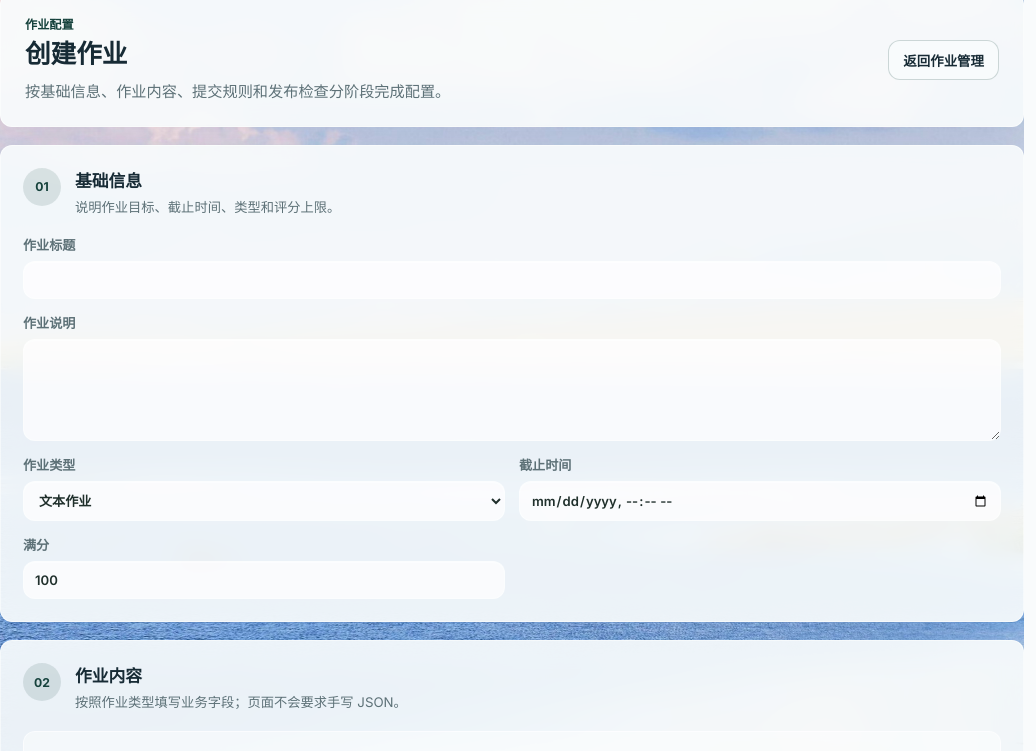
Test case: HomeworkEditorView › presents staged editing for all four homework types without raw JSON fields
Step 1. Select "附件作业" in the dropdown named "type" → (264,501), box x1=23 y1=481 x2=505 y2=521
(page scrolled)
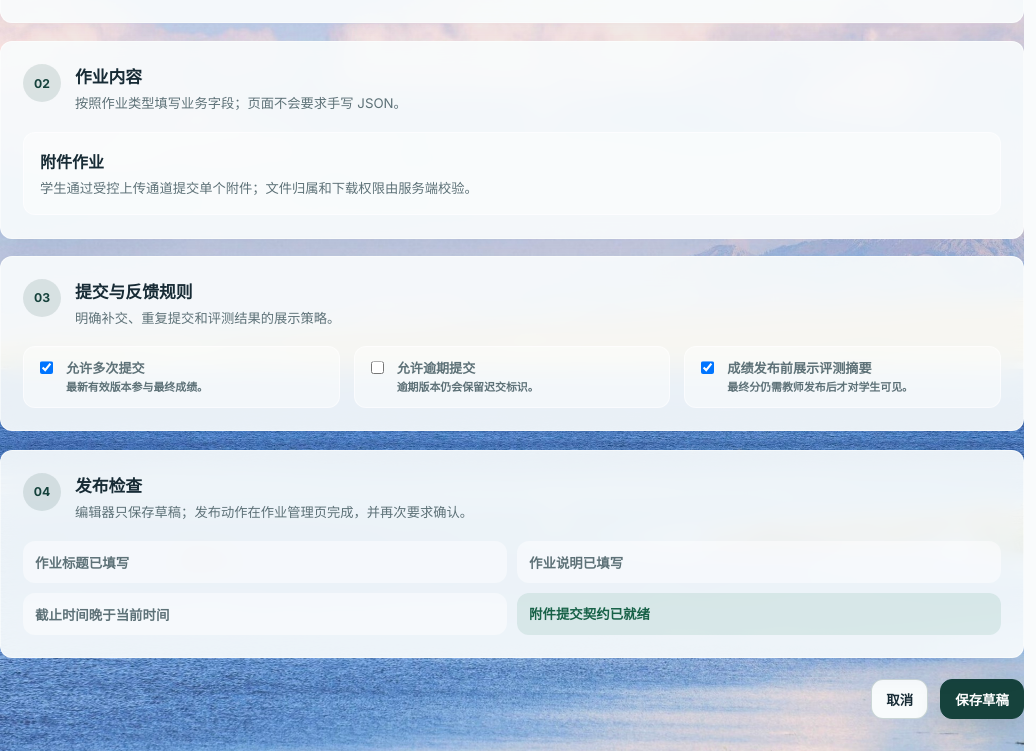
Expected: the list item with test id "type-content-check" reads "附件提交契约已就绪", x1=529 y1=606 x2=650 y2=622
